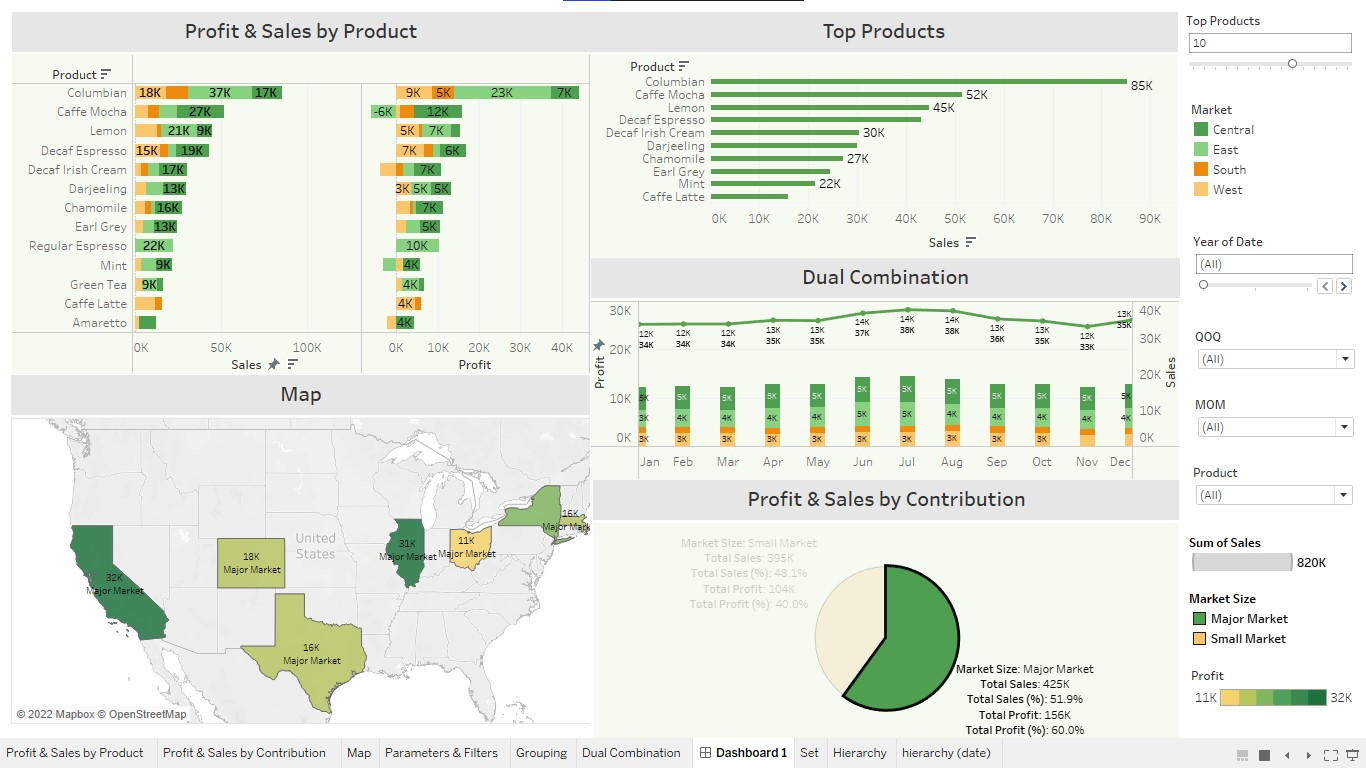

Layout of this report page (visuals, bound fields, positions):
{"tool":"tableau","page":{"name":"Dashboard 1","canvas":[1000,1000],"units":"permille","ordinal":0},"visuals":[{"type":"worksheet","title":"Profit & Sales by Product","mark":"Automatic","rows":["Product"],"cols":["Sales","Profit"],"box":[8.7,16.9,423.4,489.9]},{"type":"worksheet","title":"Parameters & Filters","mark":"Automatic","rows":["Product"],"cols":["Sales"],"box":[432,16.9,430.3,332.8]},{"type":"parameter","param":"[Parameters].[Parameter 1]","box":[868.4,16.9,123.8,113.2]},{"type":"legend","title":"Profit & Sales by Product","param":"[federated.1ynzr0303prjf313yni6b1wskvge].[none:Market:nk]","box":[871.9,136.8,121.2,165.5]},{"type":"filter","title":"Dual Combination","param":"[federated.1ynzr0303prjf313yni6b1wskvge].[yr:Date:ok]","box":[873.6,315.9,119.5,126.7]},{"type":"worksheet","title":"Dual Combination","mark":"Automatic","rows":["Profit","Sales"],"cols":["Date"],"box":[432.9,349.7,431.2,300.7]},{"type":"filter","title":"Profit & Sales by Product","param":"[federated.1ynzr0303prjf313yni6b1wskvge].[qr:Date:ok]","box":[874.5,444.3,119.5,87.8]},{"type":"worksheet","title":"Map","mark":"Automatic","box":[7.8,508.4,424.2,473]},{"type":"filter","title":"Profit & Sales by Product","param":"[federated.1ynzr0303prjf313yni6b1wskvge].[mn:Date:ok]","box":[874.5,537.2,118.6,87.8]},{"type":"filter","title":"Profit & Sales by Product","param":"[federated.1ynzr0303prjf313yni6b1wskvge].[none:Product:nk]","box":[873.6,628.4,119.5,87.8]},{"type":"legend","title":"Profit by Contribution","param":"[federated.1ynzr0303prjf313yni6b1wskvge].[sum:Sales:qk]","box":[870.1,723,121.2,64.2]},{"type":"legend","title":"Profit by Contribution","param":"[federated.1ynzr0303prjf313yni6b1wskvge].[none:Market Size:nk]","box":[870.1,799,121.2,98]},{"type":"legend","title":"Map","param":"[federated.1ynzr0303prjf313yni6b1wskvge].[sum:Profit:qk]","box":[871.9,903.7,121.2,99.7]}]}

Visuals, with their boxes on the dashboard's canvas, which has no fixed pixel size, in thousandths of its width and height (x1, y1, x2, y2). These are canvas units, not pixel positions in the 1366x768 screenshot, which may show the page scaled, cropped or inside an application window:
"Profit & Sales by Product" worksheet: [left=9, top=17, right=432, bottom=507]
"Parameters & Filters" worksheet: [left=432, top=17, right=862, bottom=350]
parameter: [left=868, top=17, right=992, bottom=130]
"Profit & Sales by Product" legend: [left=872, top=137, right=993, bottom=302]
"Dual Combination" filter: [left=874, top=316, right=993, bottom=443]
"Dual Combination" worksheet: [left=433, top=350, right=864, bottom=650]
"Profit & Sales by Product" filter: [left=874, top=444, right=994, bottom=532]
"Map" worksheet: [left=8, top=508, right=432, bottom=981]
"Profit & Sales by Product" filter: [left=874, top=537, right=993, bottom=625]
"Profit & Sales by Product" filter: [left=874, top=628, right=993, bottom=716]
"Profit by Contribution" legend: [left=870, top=723, right=991, bottom=787]
"Profit by Contribution" legend: [left=870, top=799, right=991, bottom=897]
"Map" legend: [left=872, top=904, right=993, bottom=1003]
